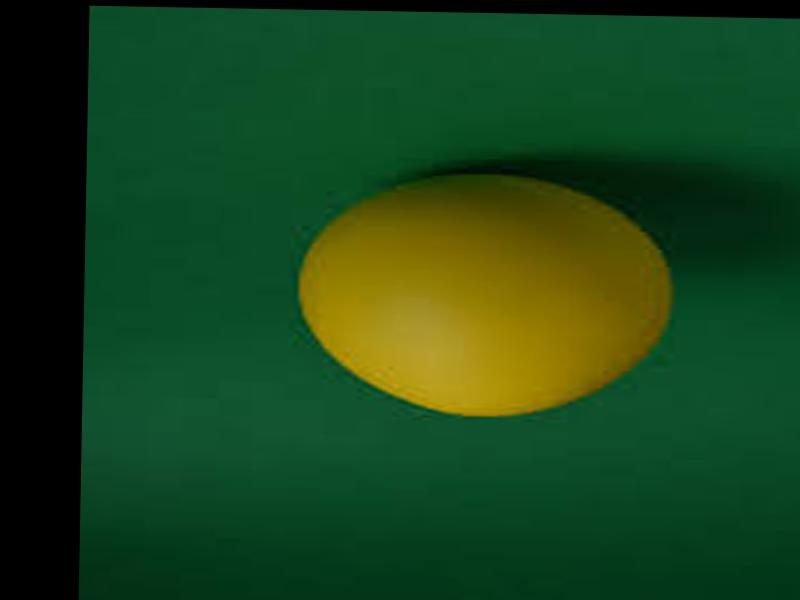Eggs: (291, 168, 663, 421)
